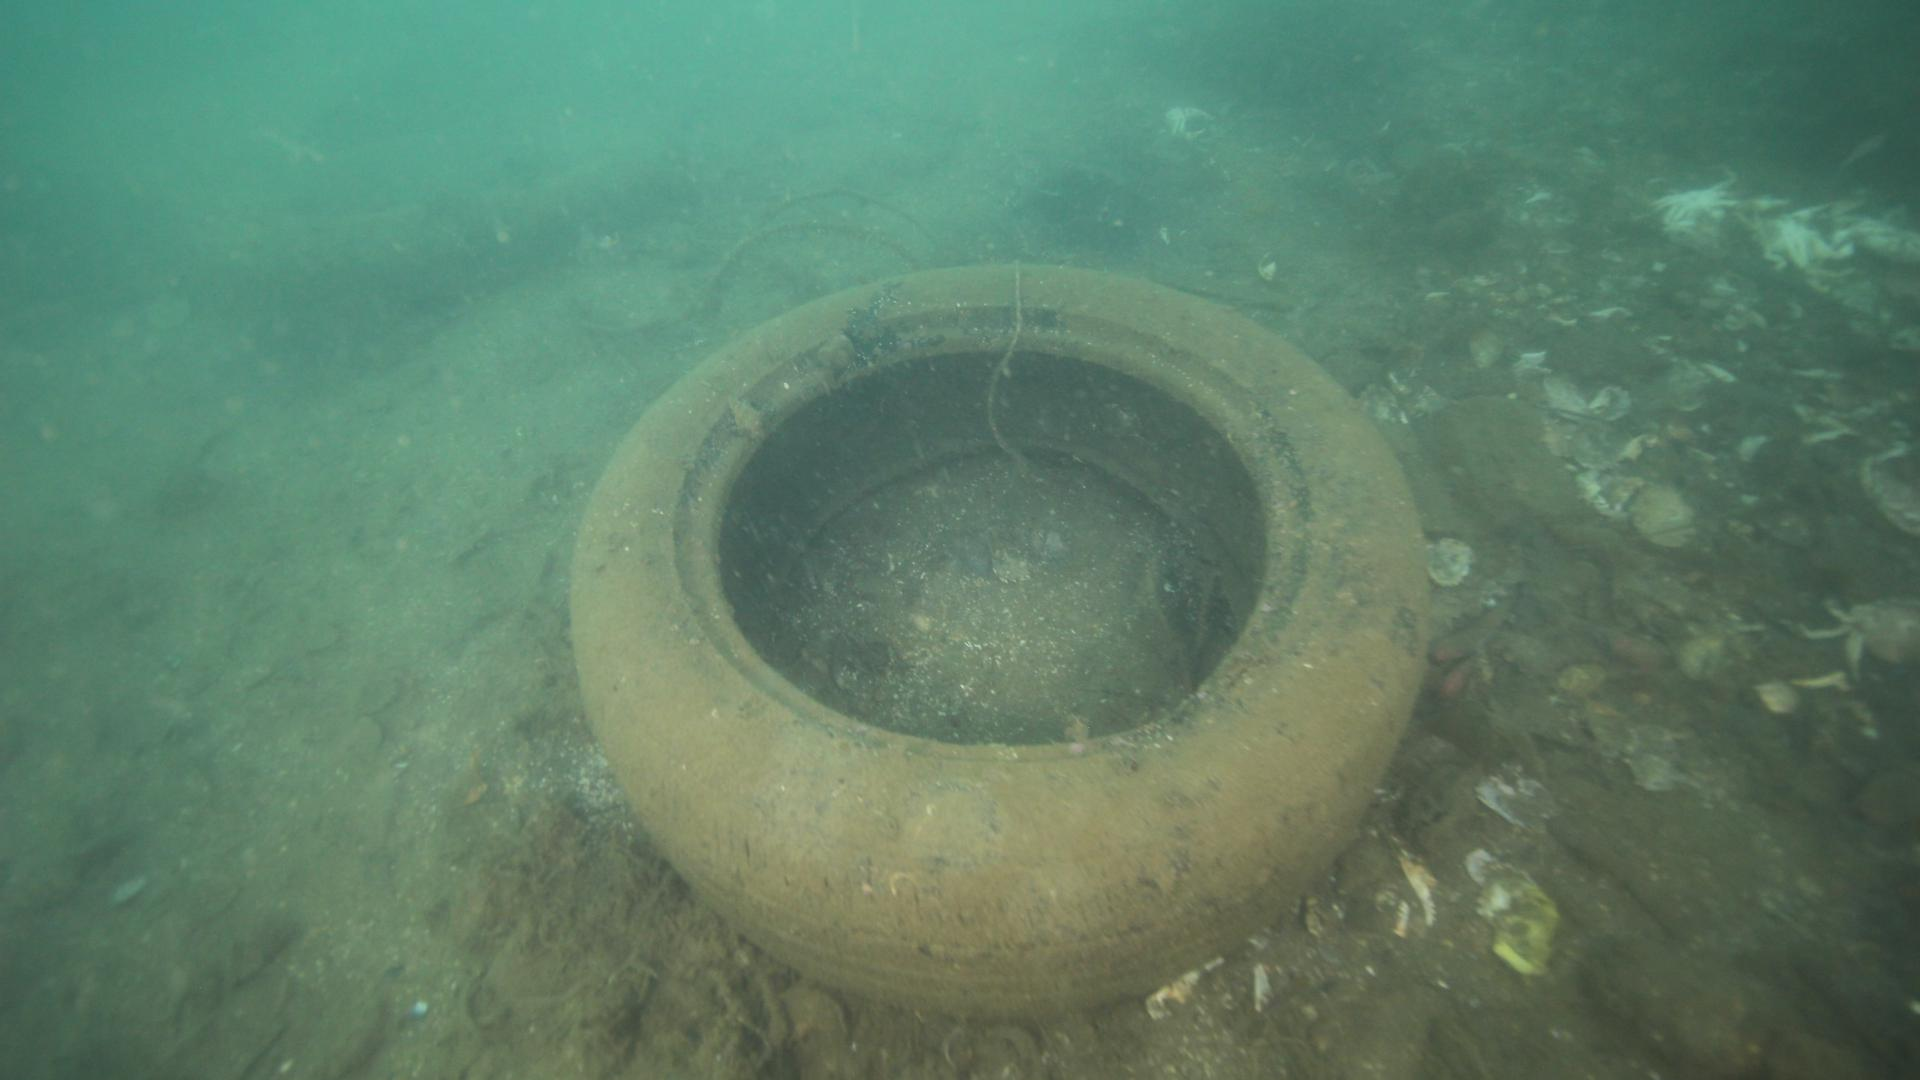tire: (560, 252, 1433, 1022)
